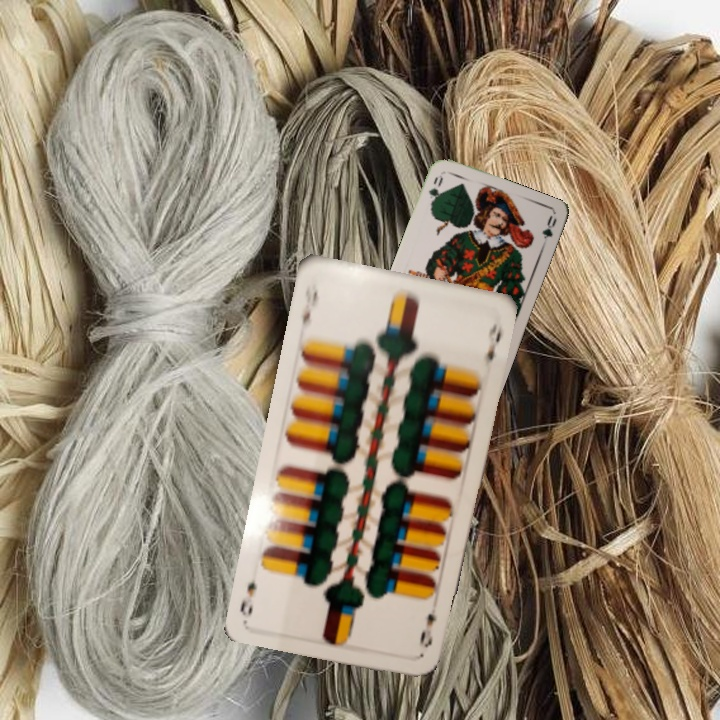E9: (295, 279, 320, 335), (415, 609, 439, 651)
GO: (424, 170, 446, 210)
